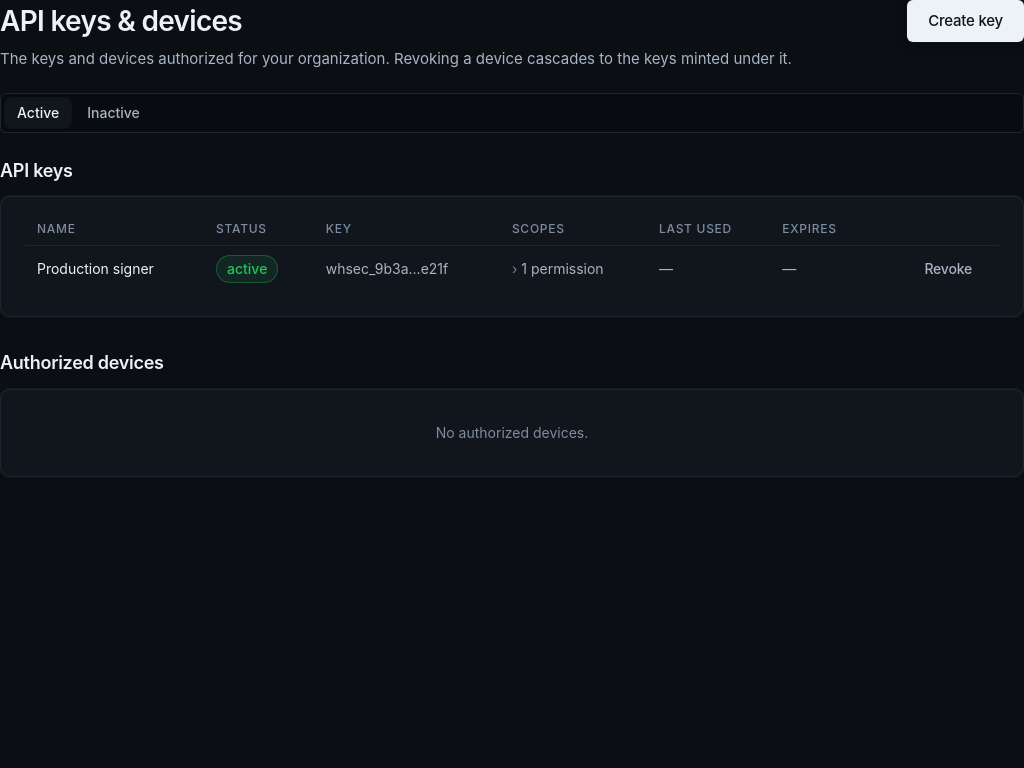
Scenario: CredentialsManager — revoke › surfaces an error and keeps the key active when the revoke fails
Click the button "Revoke" at (948, 269), box [909, 252, 987, 286]
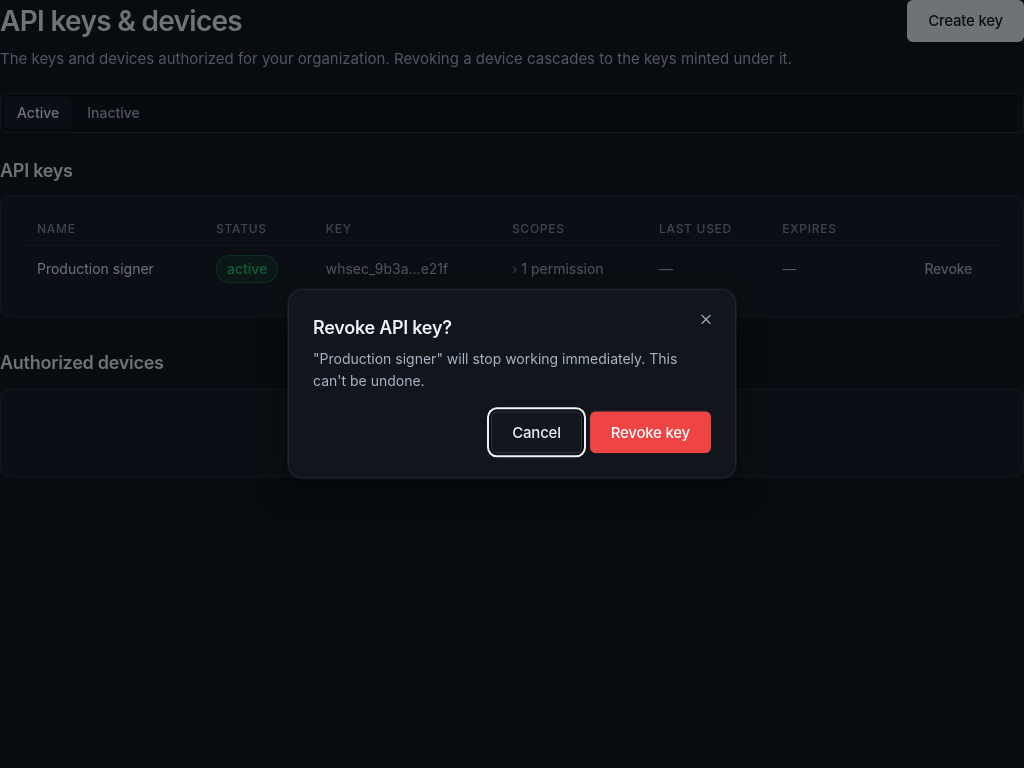
Click the button "Revoke key" at (650, 433), box [590, 412, 711, 454]
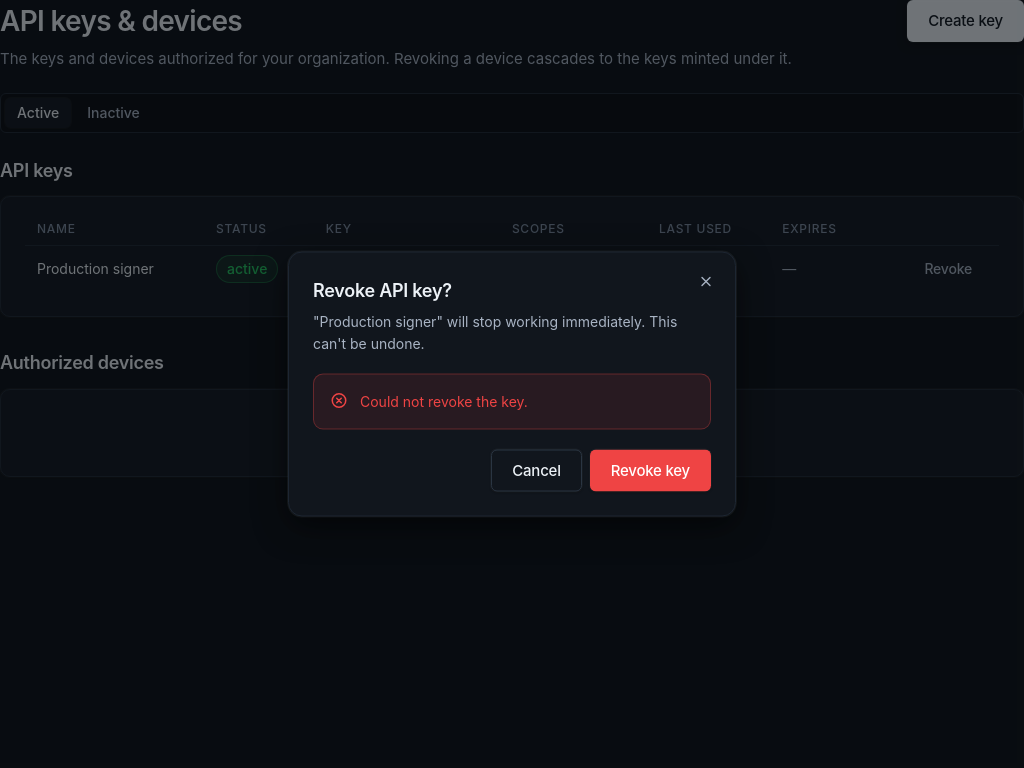
Result: the button "Revoke key" is shown at [590, 450, 711, 492]
Result: the text "Could not revoke the key." is shown at [360, 393, 528, 410]
